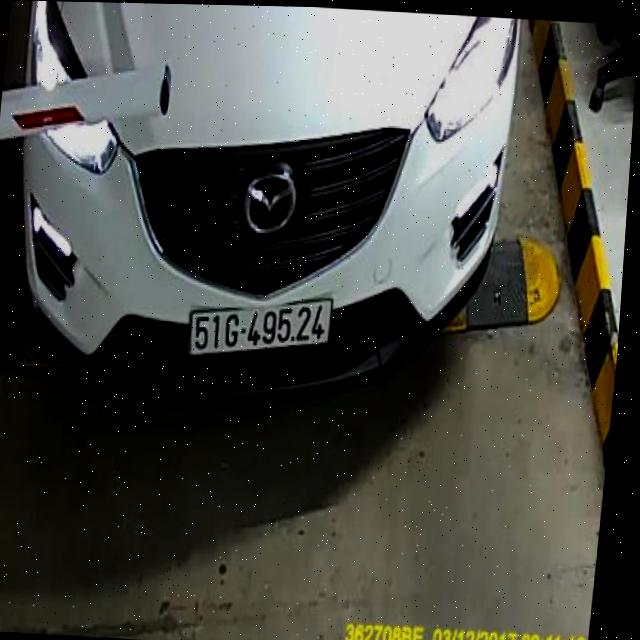car: (0, 0, 529, 436)
plate: (180, 291, 338, 367)
